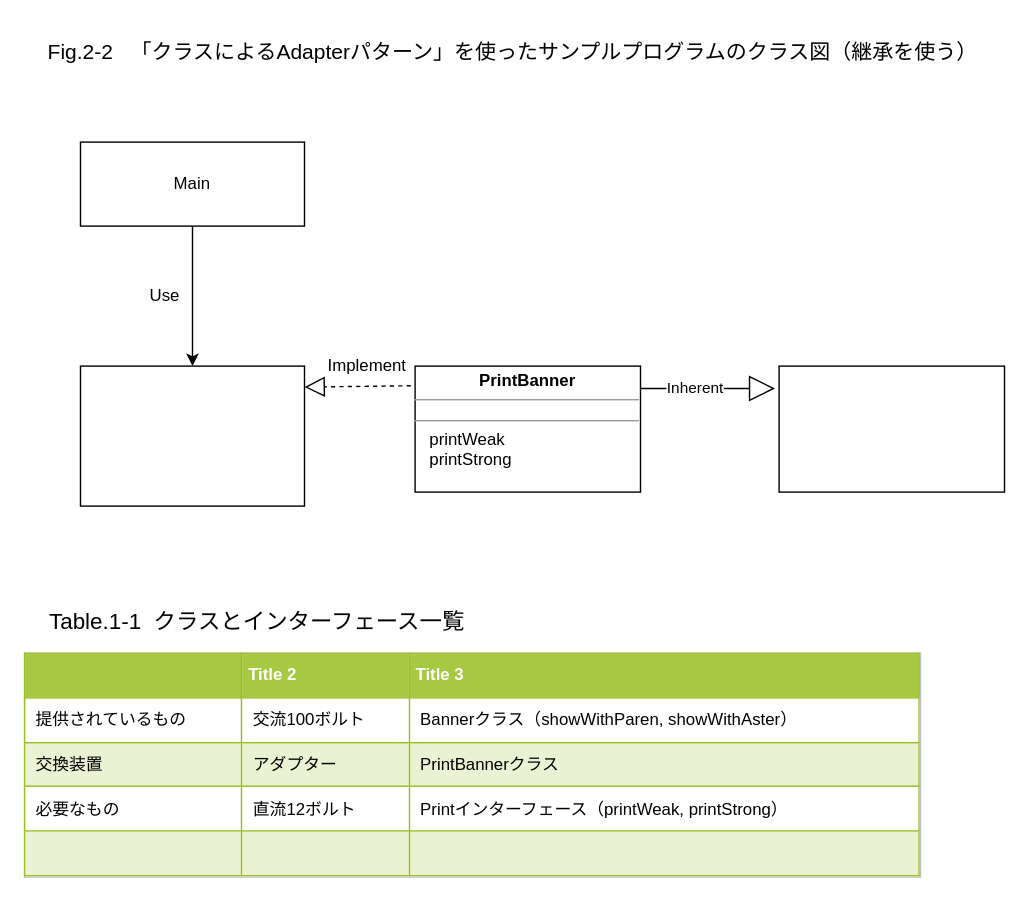
The diagram is 1029 pixels wide and 902 high, and some of its shapes have lost their labels. The shapes that lost their labels are listed below. From the top down, each one's centre as x and y in pixels, then its label:
pixel 191 435: << Interface >> Print printWeak print Strong
pixel 891 428: Banner showWithParen showWithAster
